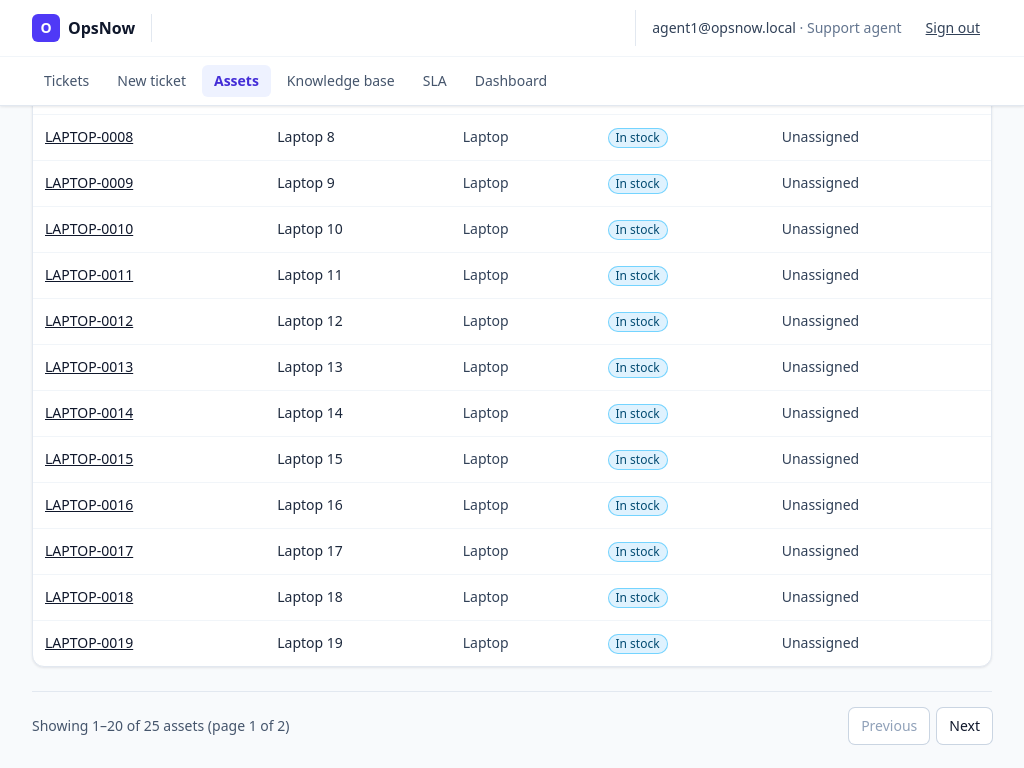
Test case: asset list — pagination › reports the visible range and moves between pages
(page scrolled)
Expected: the text "Showing 1–20 of 25 assets (page 1 of 2)" is shown, [32,716,290,736]
Expected: the button "Previous" is disabled, [849,708,929,744]
Click the button "Next".
click(965, 726)  # box [937,708,992,744]
(page scrolled)
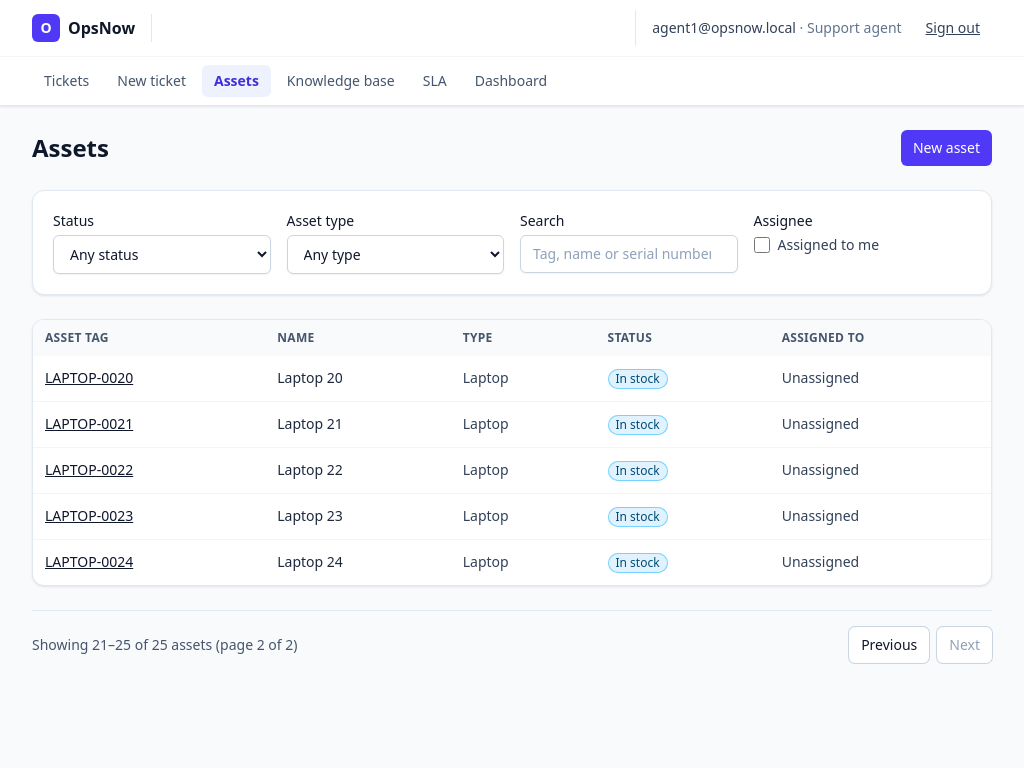
Result: the text "Showing 21–25 of 25 assets (page 2 of 2)" is shown at [32,635,298,655]
Result: the link "LAPTOP-0024" is shown at [45,552,133,571]
